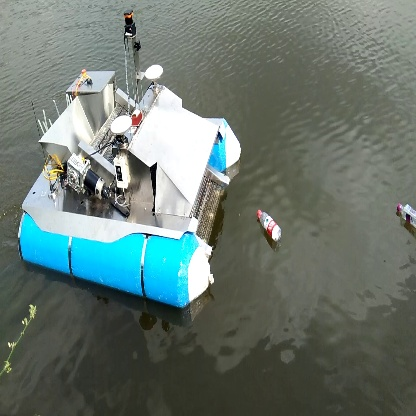bottle: (255, 208, 285, 246)
